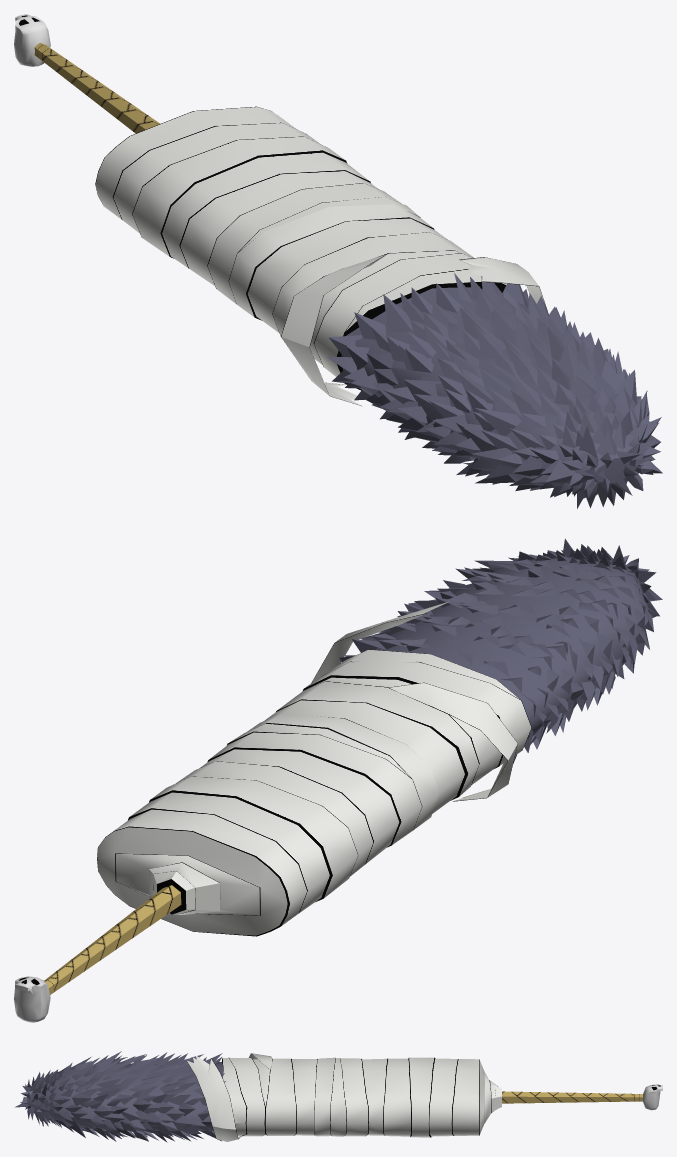
The model's file is samehada.glb.
3 views of the same model, one above another, from view 1: azimuth 30°, elevation 25°; view 2: azimuth 150°, elevation 25°; view 3: azimuth 270°, elevation 25° (orthographic). The views are drawn at different scales.
Visible parts, largest first — view 1: Object_2; view 2: Object_2; view 3: Object_2.
Part boxes in pixels (x1=…): Object_2: x1=14, y1=14, x2=662, y2=508; Object_2: x1=14, y1=538, x2=662, y2=1022; Object_2: x1=15, y1=1051, x2=662, y2=1142.
Bounding box in the file's own units: 3.01 × 1.88 × 13.89.
1 material, 1 textured.
